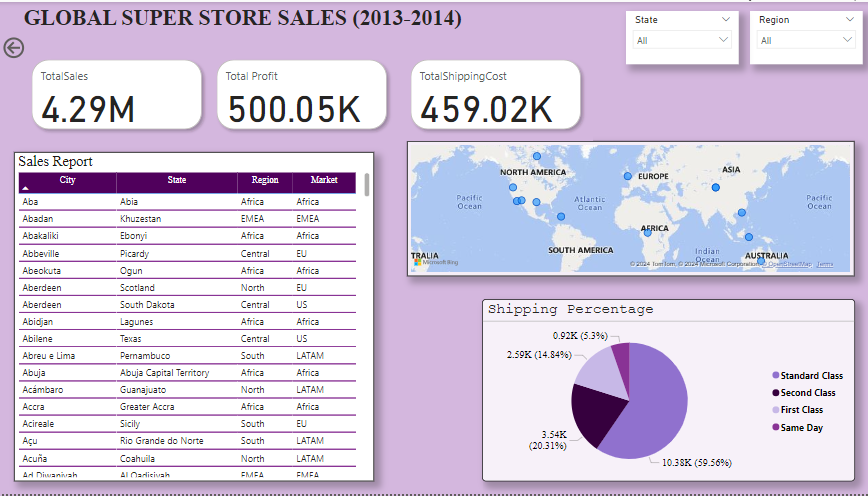

What the dashboard file says about the page in this screenshot:
{"tool":"powerbi","page":{"name":"Report (2013 - 2014)","canvas":[1280,720],"ordinal":2},"visuals":[{"type":"pieChart","title":"Shipping Percentage","fields":{"Category":["Orders.Ship Mode"],"Y":["CountNonNull(Orders.Ship Mode)"]},"box":[705.5,435.1,545.9,267.1],"z":0},{"type":"tableEx","title":"Sales Report","fields":{"Values":["Orders.City","Orders.State","Orders.Region","Orders.Market"]},"box":[20.2,220.1,527.5,482.1],"z":1000},{"type":"textbox","box":[28.6,0,700.5,52.1],"z":2000},{"type":"slicer","fields":{"Values":["Orders.Region"]},"box":[1097.6,13.2,165.4,77.6],"z":3000},{"type":"slicer","fields":{"Values":["Orders.State"]},"box":[916.1,13.2,165.4,77.6],"z":4000},{"type":"map","fields":{"Category":["Orders.Region"]},"box":[596.3,203.3,655.1,198.2],"z":5000},{"type":"cardVisual","fields":{"Data":["Orders.TotalProfit"]},"box":[300.7,67.2,283.9,136.1],"z":6000},{"type":"cardVisual","fields":{"Data":["Orders.TotalShippingCost"]},"box":[584.6,67.2,283.9,136.1],"z":7000},{"type":"cardVisual","fields":{"Data":["Orders.TotalSales"]},"box":[28.6,67.2,283.9,136.1],"z":8000},{"type":"actionButton","box":[0,47,45.4,40.3],"z":9000}]}

Visuals, with their boxes in screenshot pixels (x1, y1, x2, y2), scaled from the page's 1280x720 canvas onto the 868x496 screenshot:
"Shipping Percentage" pieChart: 478/300/849/484
"Sales Report" tableEx: 14/152/371/484
textbox: 19/0/494/36
slicer - Orders.Region: 744/9/856/63
slicer - Orders.State: 621/9/733/63
map - Orders.Region: 404/140/849/277
cardVisual - Orders.TotalProfit: 204/46/396/140
cardVisual - Orders.TotalShippingCost: 396/46/589/140
cardVisual - Orders.TotalSales: 19/46/212/140
actionButton: 0/32/31/60
